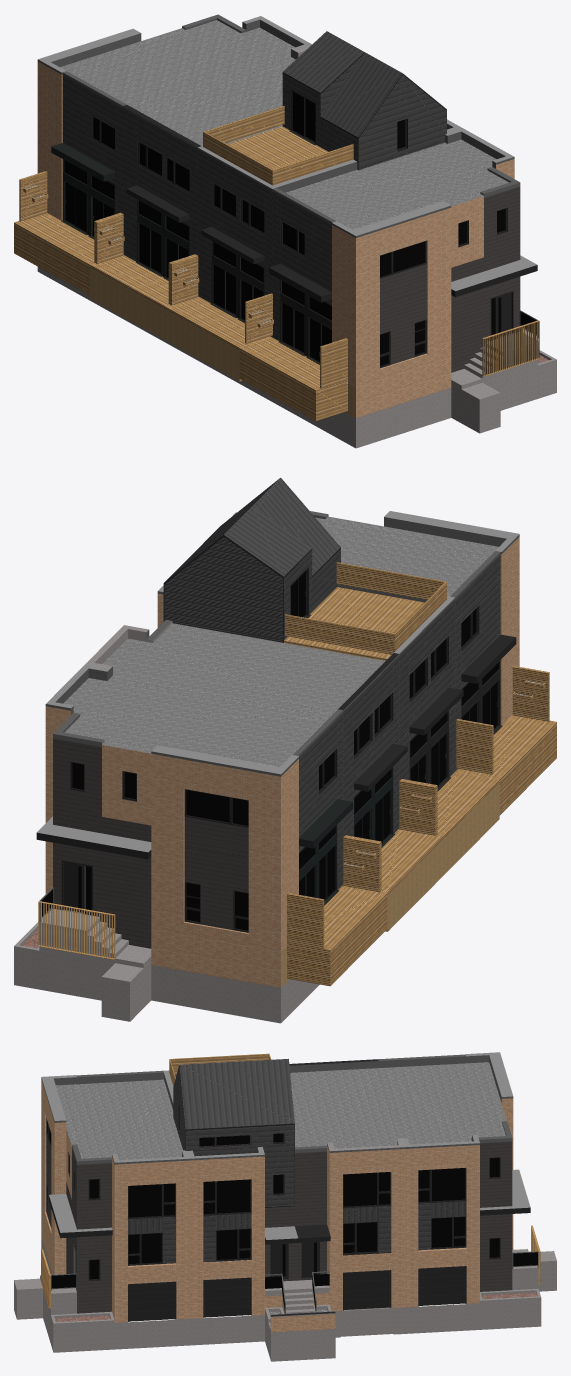
3 views of the same model, one above another, from view 1: azimuth 30°, elevation 25°; view 2: azimuth 150°, elevation 25°; view 3: azimuth 270°, elevation 25° (orthographic). The views are drawn at different scales.
Parts seen in each view (by area): view 1: Object003, Mesh24, Object001, Object002; view 2: Object001, Mesh24, Object002, Object003; view 3: Object003, Object001, Mesh24, Object002, Group1, Group1084.
Boxes of the visible parts, <box> form: Object003: <box>239,128,556,448</box>; Mesh24: <box>165,31,461,400</box>; Object001: <box>14,14,311,318</box>; Object002: <box>90,46,309,359</box>; Object001: <box>14,664,387,1023</box>; Mesh24: <box>157,477,499,874</box>; Object002: <box>85,619,443,931</box>; Object003: <box>232,511,556,815</box>; Object003: <box>14,1070,189,1352</box>; Object001: <box>378,1052,556,1333</box>; Mesh24: <box>163,1053,303,1361</box>; Object002: <box>289,1059,404,1359</box>; Group1: <box>512,1251,538,1268</box>; Group1084: <box>51,1273,76,1290</box>.
Size of the model in its own units: 663 by 571 by 1112.
Materials: 22 (16 with a texture image).
